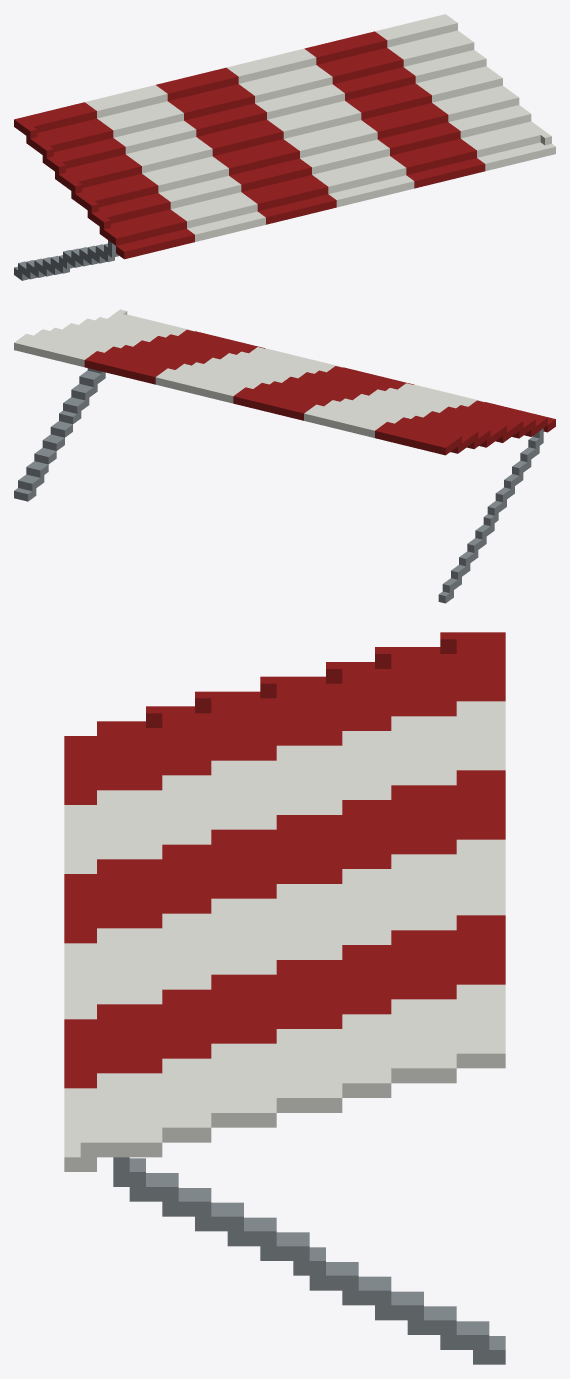
Rendered from food_truck_awning.glb.
3 views of the same model, one above another, from view 1: azimuth 30°, elevation 25°; view 2: azimuth 150°, elevation 25°; view 3: azimuth 270°, elevation 25° (orthographic). The views are drawn at different scales.
Parts seen in each view (by area): view 1: body:compound; view 2: body:compound; view 3: body:compound.
Part boxes in pixels (box(x1,y1,x2,y2)): body:compound: box(14, 14, 555, 280); body:compound: box(14, 309, 555, 603); body:compound: box(64, 632, 505, 1364).
Size of the model in its own units: 1.91 by 0.6562 by 0.8438.
